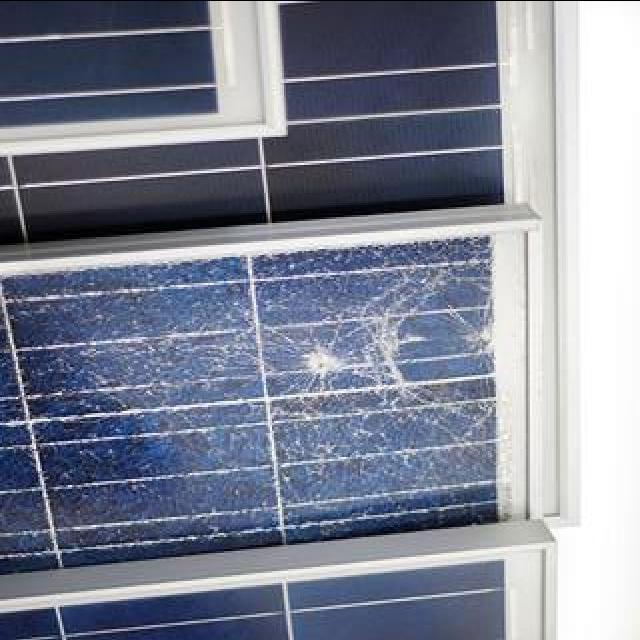cracked: (2, 202, 546, 590)
